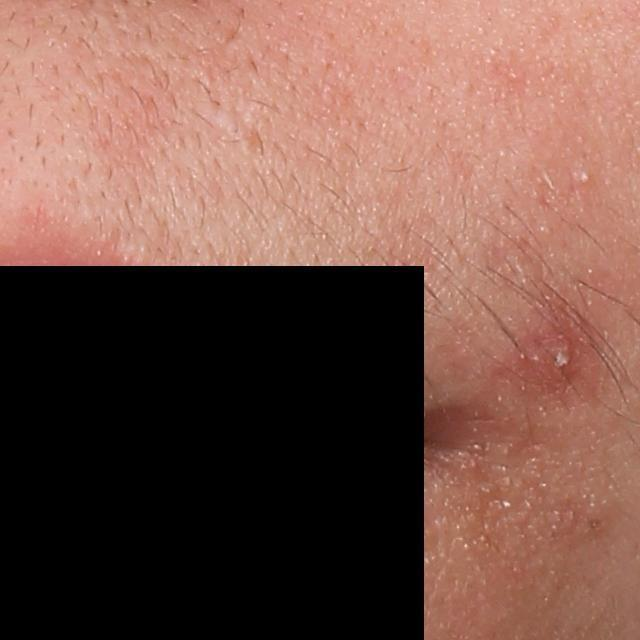comedo: (582, 514, 611, 538), (576, 169, 591, 187)
